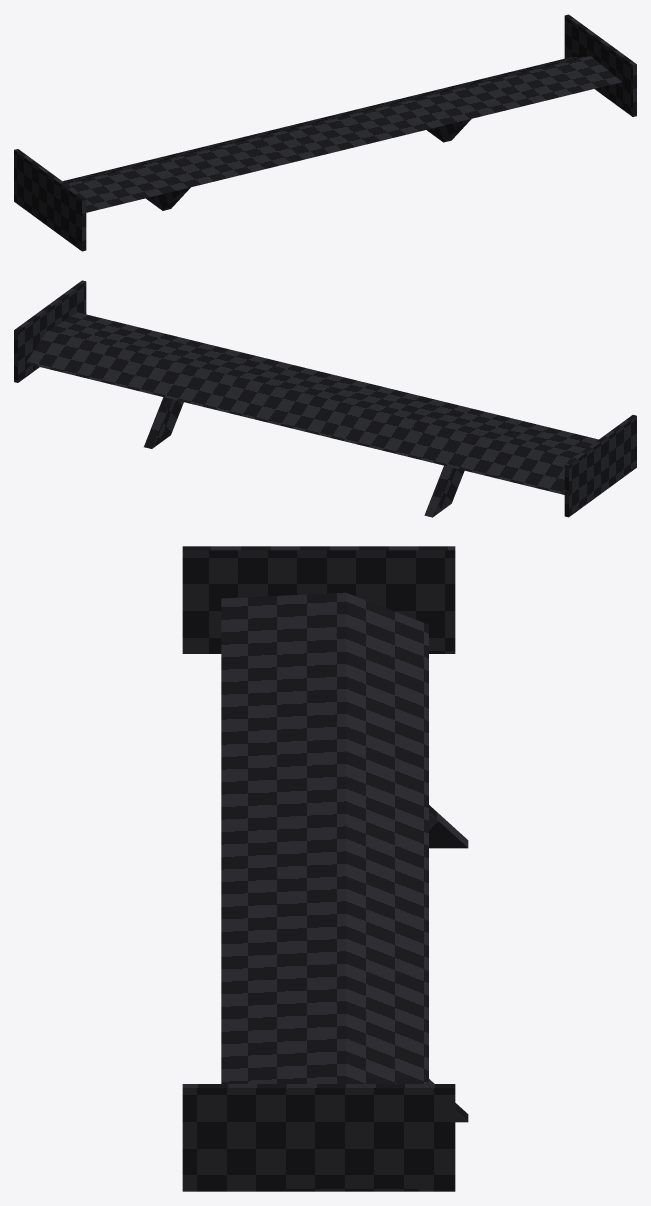
The model's file is spoiler_gt_wing.glb.
3 renders of one model, top to bottom at view 1: azimuth 30°, elevation 25°; view 2: azimuth 150°, elevation 25°; view 3: azimuth 270°, elevation 25°, orthographic. The views are drawn at different scales.
Visible parts, largest first — view 1: spoiler_gt_wing.001; view 2: spoiler_gt_wing.001; view 3: spoiler_gt_wing.001.
Part boxes in pixels (left/top/right/bottom): spoiler_gt_wing.001: left=14, top=14, right=636, bottom=251; spoiler_gt_wing.001: left=14, top=280, right=636, bottom=517; spoiler_gt_wing.001: left=182, top=546, right=468, bottom=1191.
Bounding box in the file's own units: 1.34 × 0.19 × 0.2996.
Materials: 1 (1 with a texture image).
